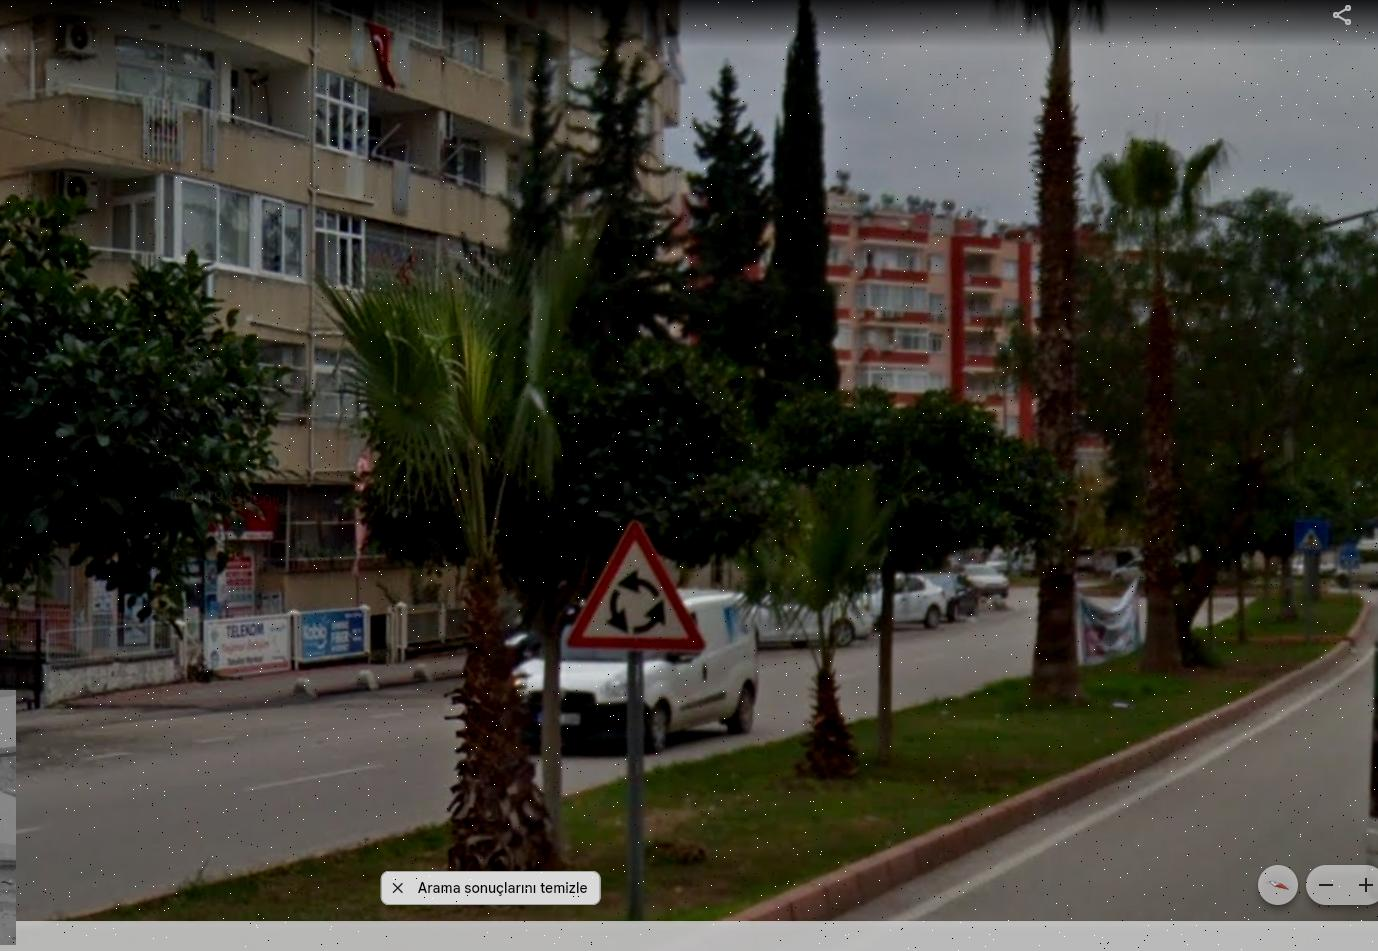crossroads: (567, 524, 705, 654)
